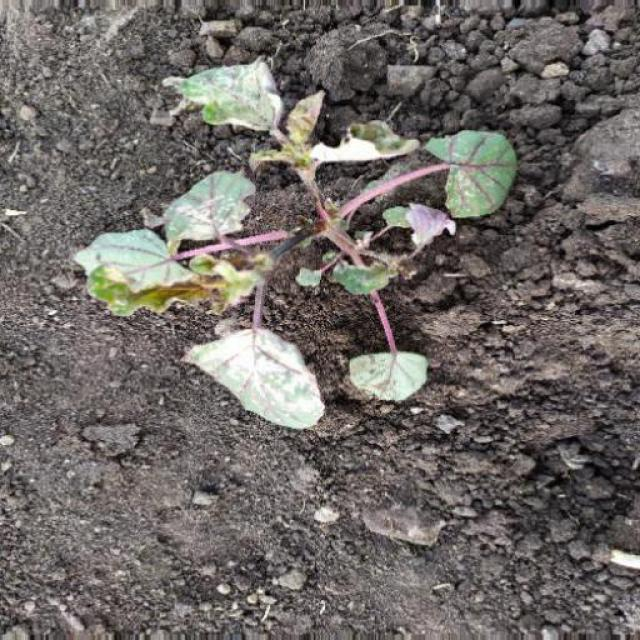weed: (61, 60, 520, 430)
